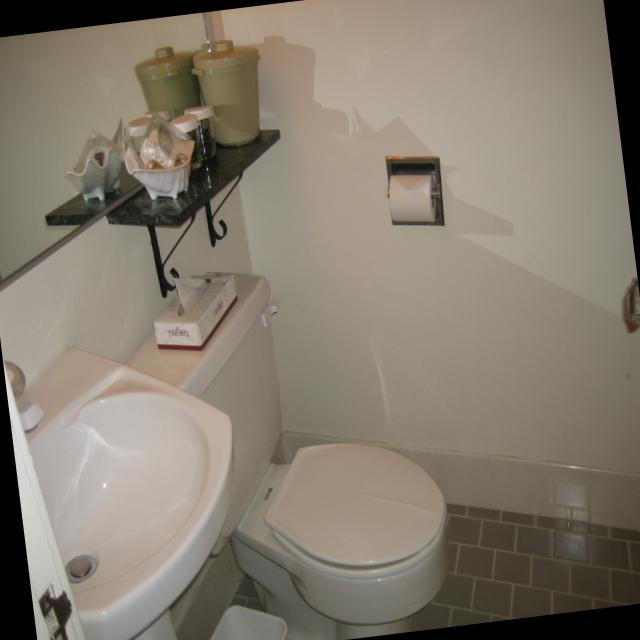floor -X: (209, 480, 640, 640)
sink basin: (14, 348, 232, 640)
tissue paper: (155, 275, 237, 352)
toilet bowl: (127, 266, 446, 622)
toilet paper: (388, 174, 436, 223)
wall clock: (211, 0, 640, 534), (0, 12, 289, 640)
